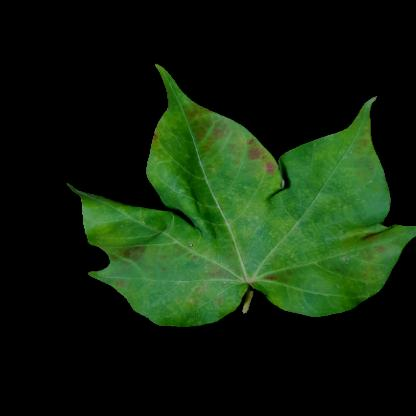curl_stage1: (233, 170, 347, 271), (152, 257, 230, 320), (174, 118, 230, 186), (278, 264, 384, 298), (173, 218, 239, 264), (90, 210, 166, 248)
